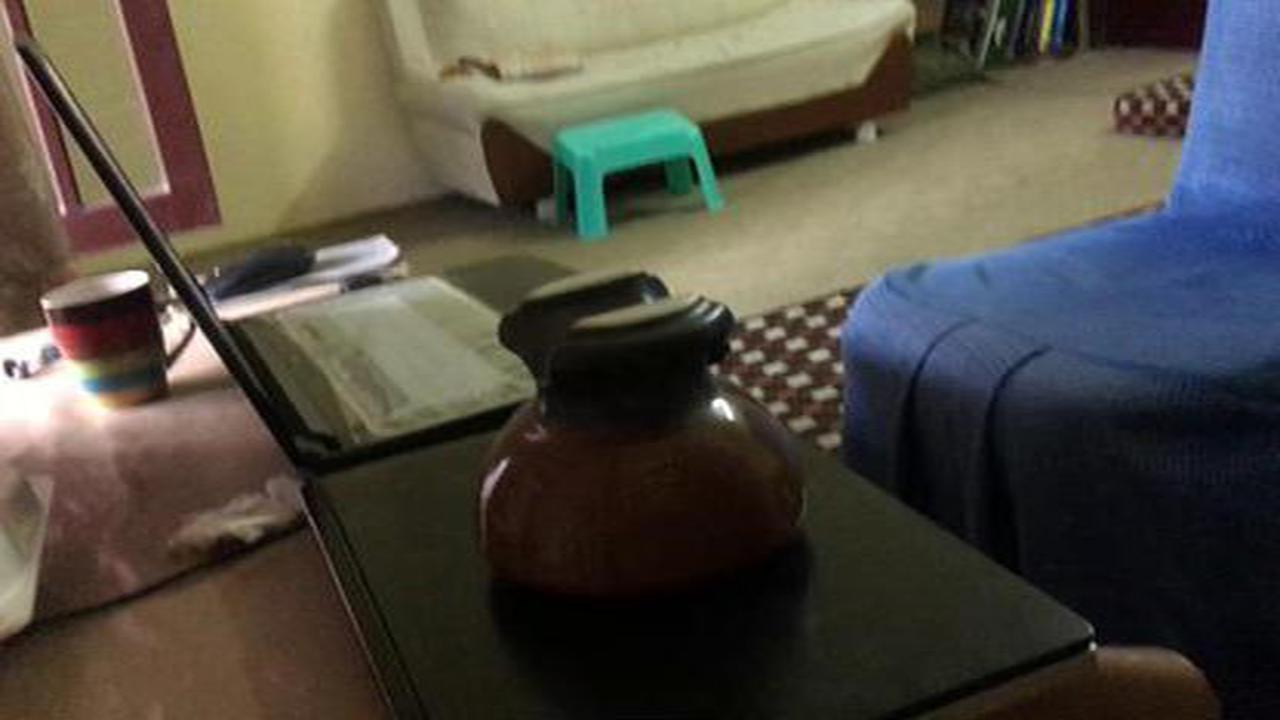insulator_pin: (474, 260, 816, 611)
